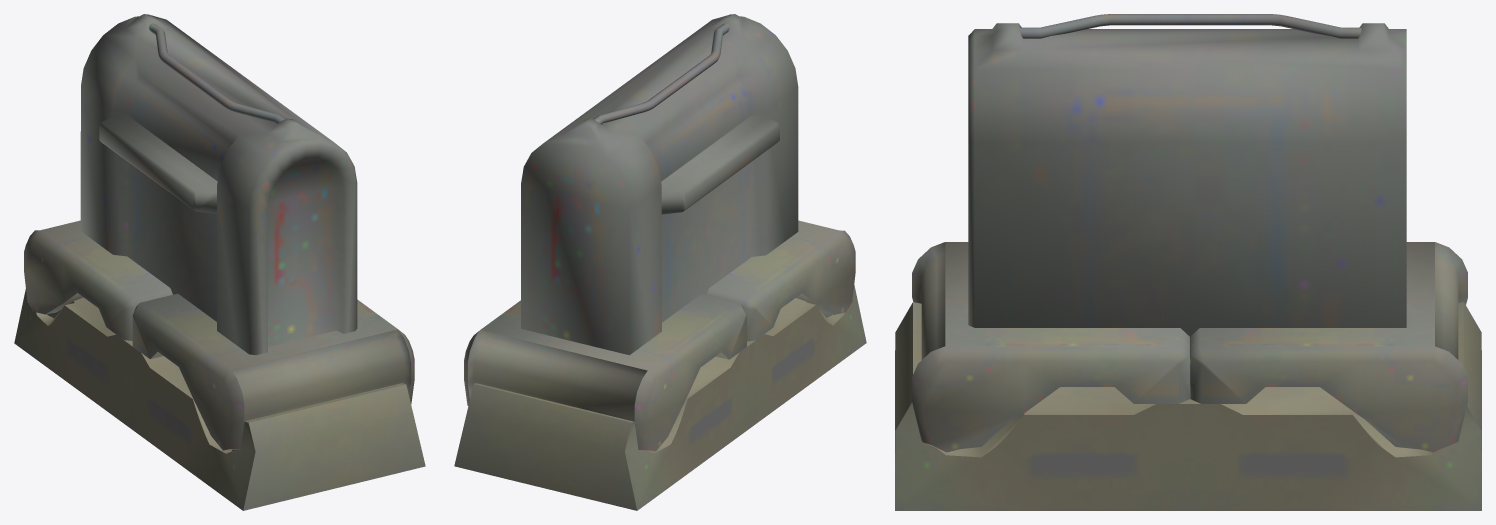
File: mag1.obj
3 views of the same model, side by side, from view 1: azimuth 30°, elevation 25°; view 2: azimuth 150°, elevation 25°; view 3: azimuth 270°, elevation 25° (orthographic). The views are drawn at different scales.
Parts seen in each view (by area): view 1: mag1; view 2: mag1; view 3: mag1.
Part boxes in pixels (box(x1,y1,x2,y2)): mag1: box(14, 14, 425, 510); mag1: box(454, 14, 866, 510); mag1: box(895, 14, 1481, 510).
Bounding box in the file's own units: 10.14 × 17.8 × 22.04.
